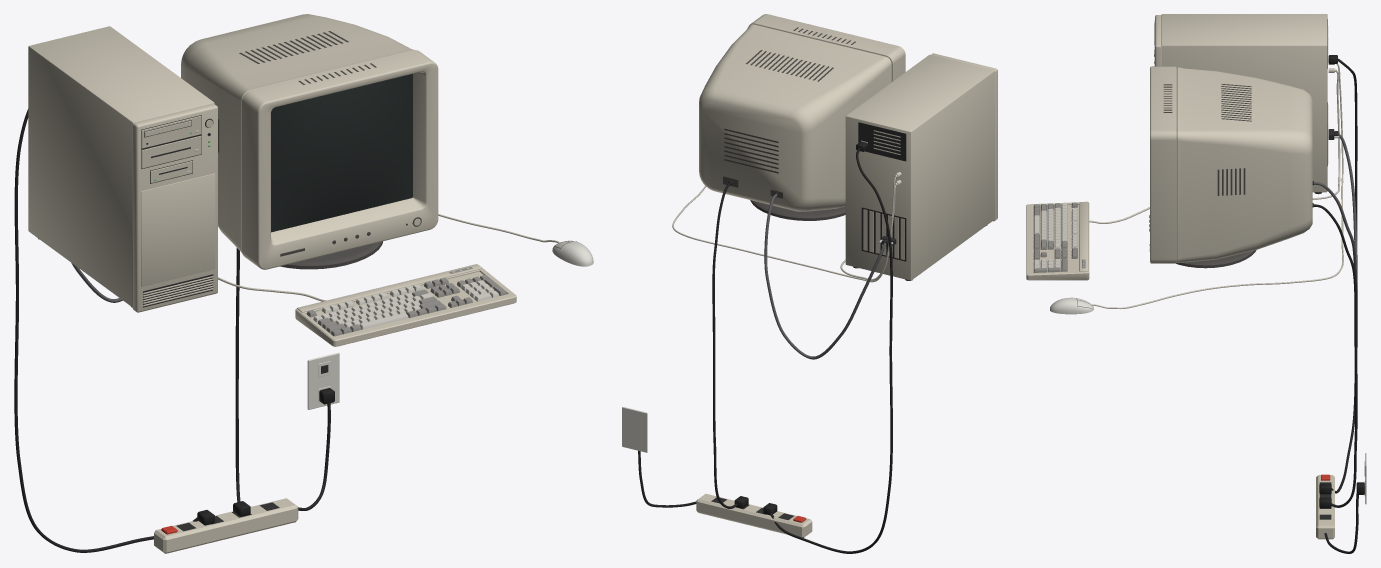
The model's file is SM_Computer.fbx.
3 renders of one model, left to right at view 1: azimuth 30°, elevation 25°; view 2: azimuth 150°, elevation 25°; view 3: azimuth 270°, elevation 25°, orthographic. The views are drawn at different scales.
Parts seen in each view (by area): view 1: SM_Computer; view 2: SM_Computer; view 3: SM_Computer.
Part boxes in pixels (left/top/right/bottom): SM_Computer: left=14, top=14, right=593, bottom=553; SM_Computer: left=622, top=14, right=997, bottom=553; SM_Computer: left=1026, top=14, right=1366, bottom=553.
Size of what is drawn, in the model's own units: 99.7 by 129 by 93.7.
